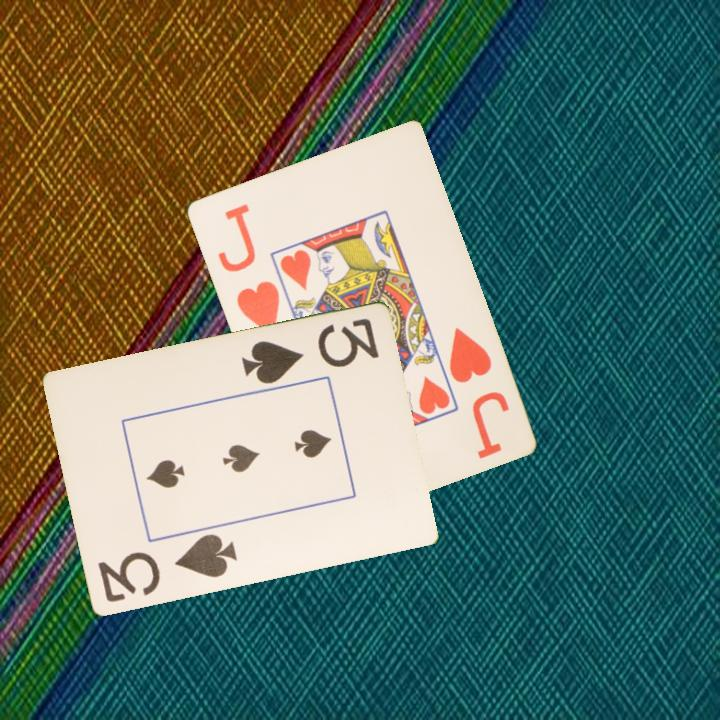3s: (94, 530, 240, 606), (238, 315, 382, 388)
Jh: (213, 200, 282, 340), (445, 323, 495, 386)
